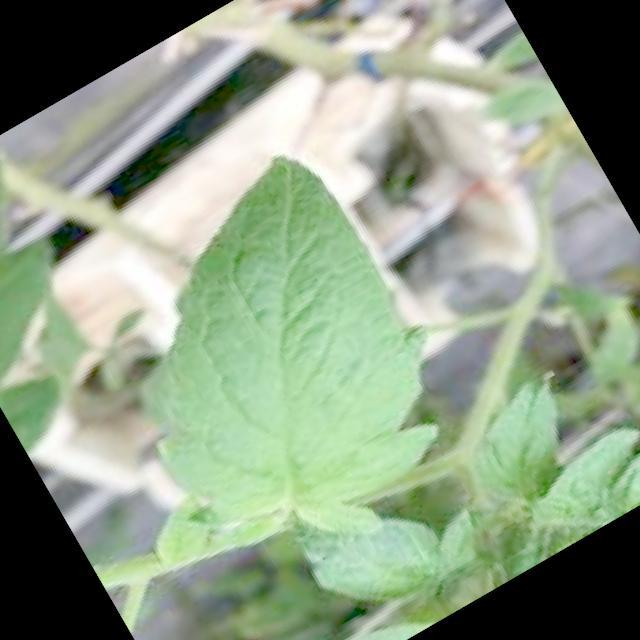Tomato healthy leaf: (136, 155, 438, 569)
